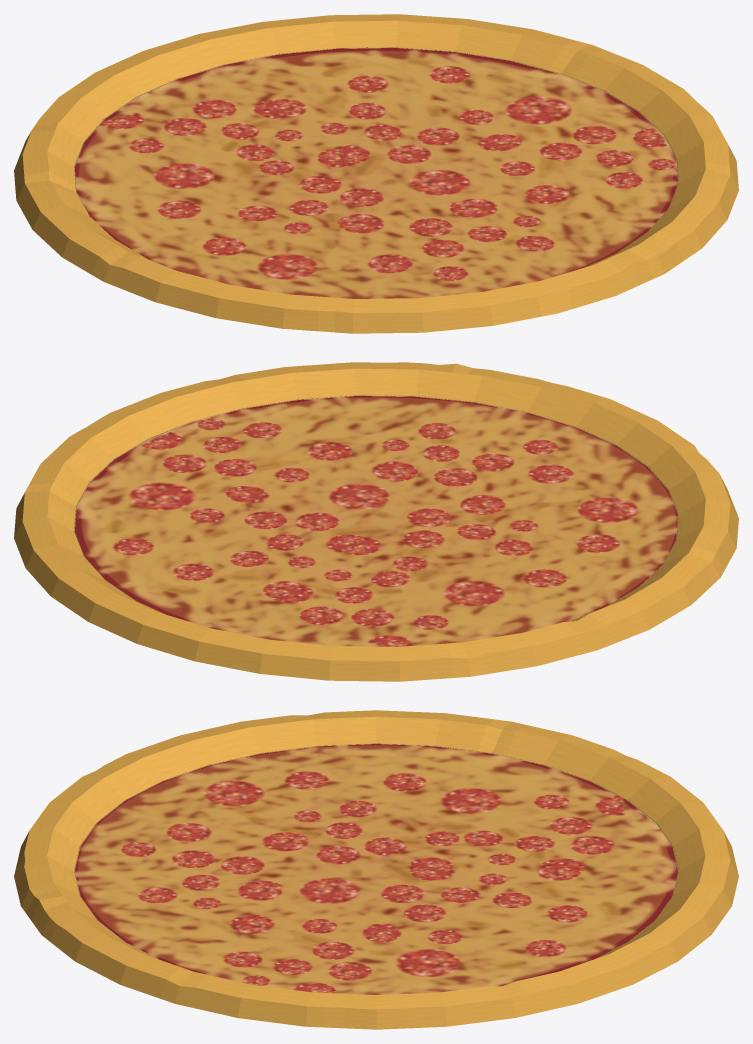
File: WorldItem_PizzaNduja.fbx
The picture shows the model from 3 angles, top to bottom: view 1: azimuth 30°, elevation 25°; view 2: azimuth 150°, elevation 25°; view 3: azimuth 270°, elevation 25°; orthographic projection.
Parts seen in each view (by area): view 1: Pizza; view 2: Pizza; view 3: Pizza.
Boxes of the visible parts, box(x1,y1,x2,y2) form: Pizza: box(14, 14, 738, 333); Pizza: box(14, 362, 738, 681); Pizza: box(14, 710, 738, 1029).
Size of the model in its own units: 45.79 by 2.22 by 45.79.
